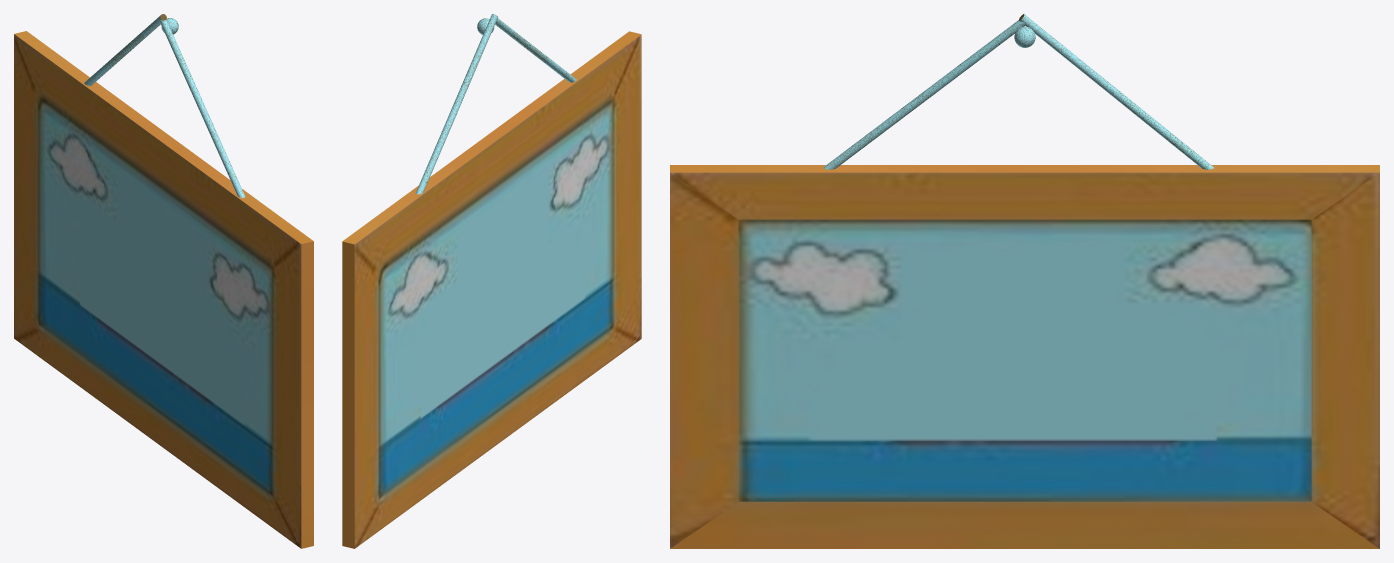
Rendered from Cuadro.obj.
3 renders of one model, left to right at view 1: azimuth 30°, elevation 25°; view 2: azimuth 150°, elevation 25°; view 3: azimuth 270°, elevation 25°, orthographic. The views are drawn at different scales.
Parts seen in each view (by area): view 1: Plano; view 2: Plano; view 3: Plano.
Boxes of the visible parts, x1,y1,x2,y2 form: Plano: [14, 14, 313, 548]; Plano: [342, 14, 641, 548]; Plano: [670, 14, 1379, 548].
Size of the model in its own units: 0.137 by 2.81 by 3.42.
1 material, 1 textured.
